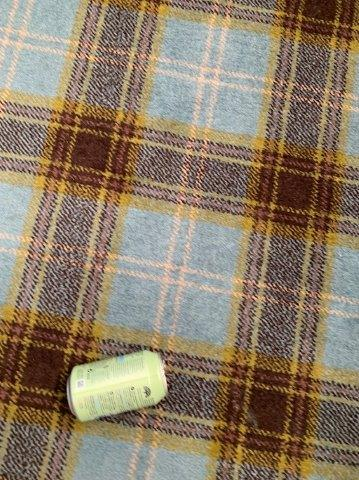kaleng: (66, 351, 168, 422)
